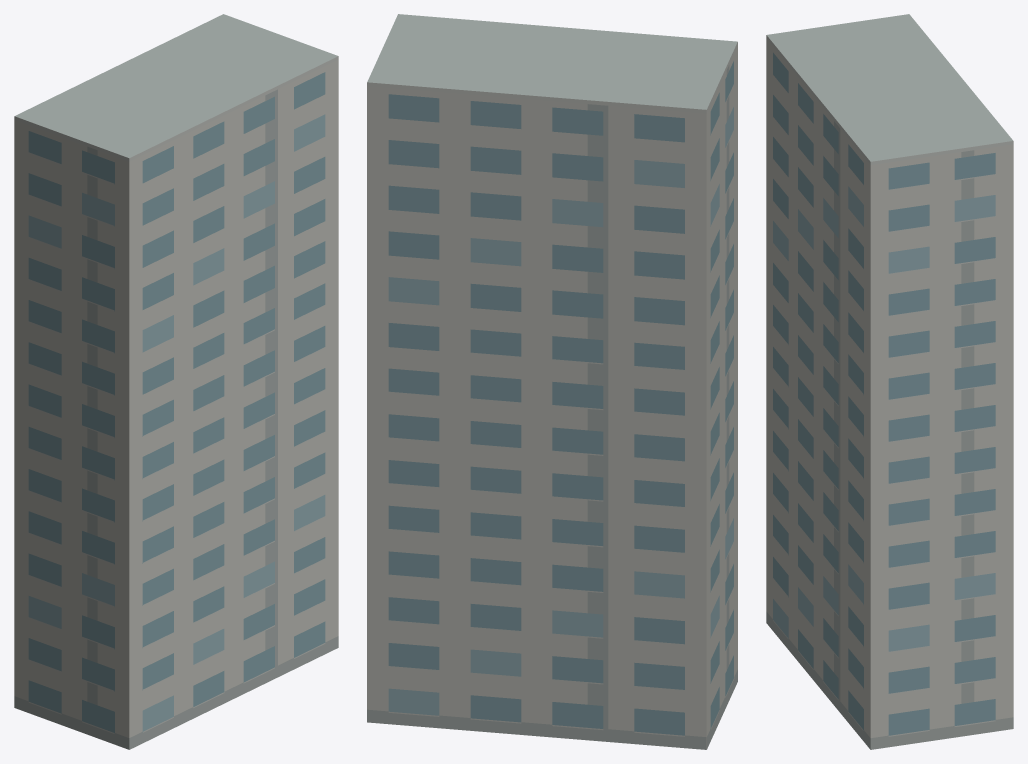
Rendered from residential-058b3a75-1dbd-4d6e-91c3-297f41fb3bd7.glb.
The picture shows the model from 3 angles, left to right: view 1: azimuth 30°, elevation 25°; view 2: azimuth 150°, elevation 25°; view 3: azimuth 270°, elevation 25°; orthographic projection. The views are drawn at different scales.
Visible parts, largest first — view 1: residential-058b3a75-1dbd-4d6e-91c3-297f41fb3bd7.tmp; view 2: residential-058b3a75-1dbd-4d6e-91c3-297f41fb3bd7.tmp; view 3: residential-058b3a75-1dbd-4d6e-91c3-297f41fb3bd7.tmp.
Boxes of the visible parts, <box> form: residential-058b3a75-1dbd-4d6e-91c3-297f41fb3bd7.tmp: <box>14,14,338,749</box>; residential-058b3a75-1dbd-4d6e-91c3-297f41fb3bd7.tmp: <box>367,14,737,749</box>; residential-058b3a75-1dbd-4d6e-91c3-297f41fb3bd7.tmp: <box>766,14,1013,749</box>.
Bounding box in the file's own units: 21.57 × 40 × 15.24.
